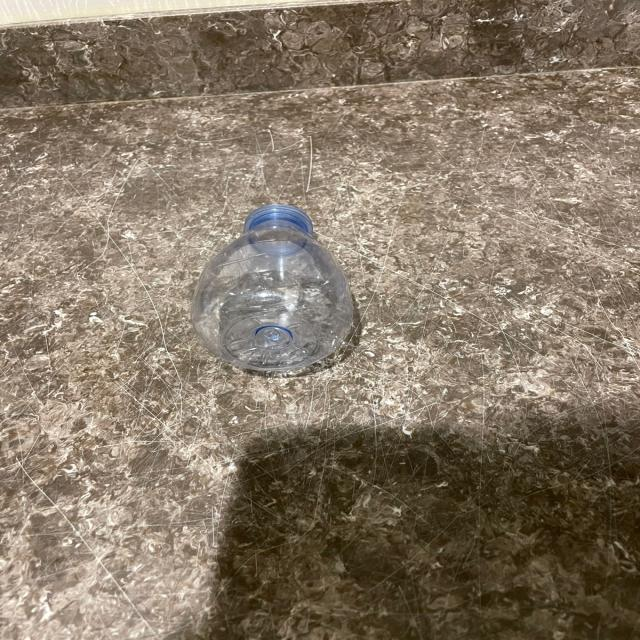chai: (192, 204, 352, 372)
